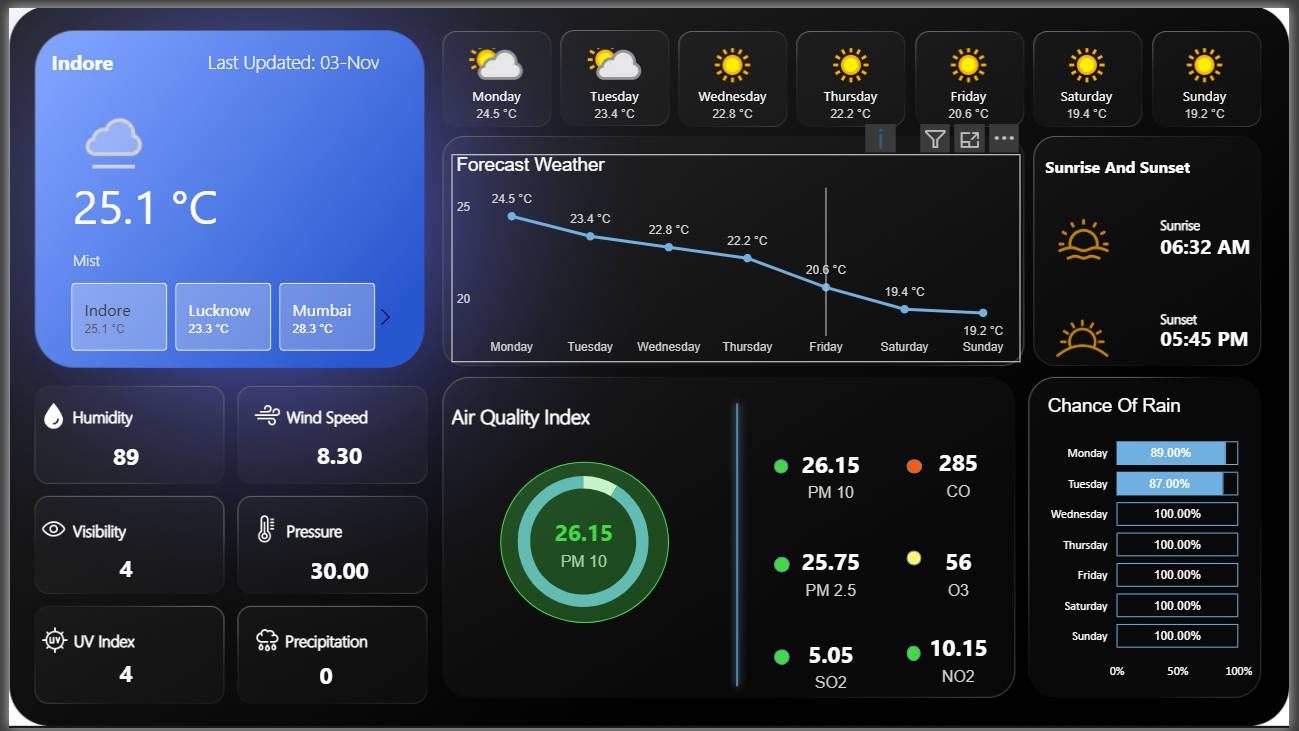

The page's visual inventory and layout, read from the dashboard file:
{"tool":"powerbi","page":{"name":"Page 1","canvas":[1280,720],"ordinal":0},"visuals":[{"type":"advancedSlicerVisual","fields":{"Values":["Location.location.name"]},"box":[37.4,270.2,354.7,78.4],"z":0},{"type":"shape","box":[63.9,158,150.8,78.4],"z":1000},{"type":"shape","box":[63.9,231.6,194.2,38.6],"z":2000},{"type":"shape","box":[42.2,33.8,119.4,38.6],"z":3000},{"type":"shape","box":[199.1,33.8,193,38.6],"z":4000},{"type":"cardVisual","fields":{"Data":["Min(Current.current.condition.icon)"]},"box":[37.4,72.4,124.3,115.8],"z":5000},{"type":"shape","box":[63.9,388.5,70,38.6],"z":6000},{"type":"shape","box":[63.9,501.9,70,38.6],"z":7000},{"type":"shape","box":[65.1,612.9,70,38.6],"z":8000},{"type":"shape","box":[277.5,388.8,98.8,38.8],"z":9000},{"type":"shape","box":[277.5,501.9,70,38.6],"z":10000},{"type":"shape","box":[276.3,612.9,98.9,38.6],"z":11000},{"type":"image","box":[26.5,388.5,37.4,38.6],"z":12000},{"type":"image","box":[26.5,501.9,37.4,37.4],"z":13000},{"type":"image","box":[240.1,388.5,37.4,37.4],"z":14000},{"type":"image","box":[27.7,614.1,37.4,37.4],"z":15000},{"type":"image","box":[238.9,503.1,37.4,37.4],"z":16000},{"type":"image","box":[240.1,614.1,37.4,37.4],"z":17000},{"type":"card","fields":{"Values":["Sum(Current.current.humidity)"]},"box":[95.3,427.1,44.6,44.6],"z":18000},{"type":"card","fields":{"Values":["Sum(Current.current.vis_km)"]},"box":[95.3,540.5,44.6,44.6],"z":19000},{"type":"card","fields":{"Values":["Sum(Current.current.uv)"]},"box":[95.3,645.4,44.6,44.6],"z":20000},{"type":"card","fields":{"Values":["Sum(Current.current.wind_kph)"]},"box":[295.6,425.9,71.2,44.6],"z":21000},{"type":"card","fields":{"Values":["Sum(Current.current.pressure_in)"]},"box":[295.6,541.7,71.2,44.6],"z":22000},{"type":"card","fields":{"Values":["Sum(Current.current.precip_in)"]},"box":[295.6,646.7,44.6,44.6],"z":23000},{"type":"advancedSlicerVisual","fields":{"Values":["Forecast_Day.Day Name"]},"box":[427.1,33.8,831.2,96.5],"z":24000},{"type":"lineChart","title":"Forecast Weather","fields":{"Category":["Forecast_Day.Day Name"],"Y":["Sum(Forecast_Day.forecast.forecastday.day.avgtemp_c)"]},"box":[442.8,146,568.2,208.7],"z":25000},{"type":"shape","box":[1036.3,138.7,155.6,38.6],"z":26000},{"type":"shape","box":[1150.9,217.2,107.4,38.6],"z":27000},{"type":"shape","box":[1150.9,310.1,107.4,38.6],"z":28000},{"type":"shape","box":[1150.9,197.9,70,38.6],"z":29000},{"type":"shape","box":[1150.9,290.8,70,38.6],"z":30000},{"type":"image","box":[1033.9,284.7,79.6,90.5],"z":31000},{"type":"image","box":[1035.1,201.5,78.4,60.3],"z":32000},{"type":"hundredPercentStackedBarChart","title":"Chance Of Rain","fields":{"Category":["Forecast_Day.Day Name"],"Y":["Sum(Forecast_Day.forecast.forecastday.day.daily_chance_of_rain)","_Measures.Left_value_rain"]},"box":[1033.9,387.3,214.7,293.2],"z":33000},{"type":"card","fields":{"Values":["Sum(Current.current.air_quality.co)"]},"box":[912.9,428.7,74.1,72.6],"z":33001},{"type":"card","fields":{"Values":["Sum(Current.current.air_quality.o3)"]},"box":[912.9,526.9,74.1,72.6],"z":33002},{"type":"card","fields":{"Values":["Sum(Current.current.air_quality.no2)"]},"box":[912.9,613.8,74.1,72.6],"z":33003},{"type":"card","fields":{"Values":["Sum(Current.current.air_quality.pm10)"]},"box":[780.4,430.1,84,72.6],"z":33004},{"type":"card","fields":{"Values":["Sum(Current.current.air_quality.pm2_5)"]},"box":[780.4,526.9,84,72.6],"z":33005},{"type":"card","fields":{"Values":["Sum(Current.current.air_quality.so2)"]},"box":[780.4,619.5,84,72.6],"z":33006},{"type":"shape","box":[764.8,451.4,14.2,14.2],"z":33007},{"type":"shape","box":[897.2,451.4,15.7,14.2],"z":33008},{"type":"shape","box":[897,542.6,15,15],"z":33009},{"type":"shape","box":[897.2,638,14.2,15.7],"z":33010},{"type":"shape","box":[764.8,548.3,15.7,15.7],"z":33011},{"type":"shape","box":[764.8,640.9,15.7,15.7],"z":33012},{"type":"shape","box":[716.2,387.5,23.8,298.8],"z":33013},{"type":"card","fields":{"Values":["Sum(Current.current.air_quality.pm10)"]},"box":[538.8,505,72.5,60],"z":33014},{"type":"donutChart","fields":{"Y":["Sum(Current.current.air_quality.pm10)","_Measures.Left value PM10"]},"box":[487.5,438.8,173.8,190],"z":33015},{"type":"shape","box":[491.2,453.8,168.8,161.2],"z":33016},{"type":"shape","box":[442.5,387.5,177.5,38.8],"z":33017}]}

Visuals, with their boxes in screenshot pixels (x1, y1, x2, y2), scaled from the page's 1280x720 canvas onto the 1299x731 screenshot:
advancedSlicerVisual - Location.location.name: region(38, 274, 398, 354)
shape: region(65, 160, 218, 240)
shape: region(65, 235, 262, 274)
shape: region(43, 34, 164, 74)
shape: region(202, 34, 398, 74)
cardVisual - Min(Current.current.condition.icon): region(38, 74, 164, 191)
shape: region(65, 394, 136, 434)
shape: region(65, 510, 136, 549)
shape: region(66, 622, 137, 661)
shape: region(282, 395, 382, 434)
shape: region(282, 510, 353, 549)
shape: region(280, 622, 381, 661)
image: region(27, 394, 65, 434)
image: region(27, 510, 65, 548)
image: region(244, 394, 282, 432)
image: region(28, 623, 66, 661)
image: region(242, 511, 280, 549)
image: region(244, 623, 282, 661)
card - Sum(Current.current.humidity): region(97, 434, 142, 479)
card - Sum(Current.current.vis_km): region(97, 549, 142, 594)
card - Sum(Current.current.uv): region(97, 655, 142, 701)
card - Sum(Current.current.wind_kph): region(300, 432, 372, 478)
card - Sum(Current.current.pressure_in): region(300, 550, 372, 595)
card - Sum(Current.current.precip_in): region(300, 657, 345, 702)
advancedSlicerVisual - Forecast_Day.Day Name: region(433, 34, 1277, 132)
"Forecast Weather" lineChart: region(449, 148, 1026, 360)
shape: region(1052, 141, 1210, 180)
shape: region(1168, 221, 1277, 260)
shape: region(1168, 315, 1277, 354)
shape: region(1168, 201, 1239, 240)
shape: region(1168, 295, 1239, 334)
image: region(1049, 289, 1130, 381)
image: region(1050, 205, 1130, 266)
"Chance Of Rain" hundredPercentStackedBarChart: region(1049, 393, 1267, 691)
card - Sum(Current.current.air_quality.co): region(926, 435, 1002, 509)
card - Sum(Current.current.air_quality.o3): region(926, 535, 1002, 609)
card - Sum(Current.current.air_quality.no2): region(926, 623, 1002, 697)
card - Sum(Current.current.air_quality.pm10): region(792, 437, 877, 510)
card - Sum(Current.current.air_quality.pm2_5): region(792, 535, 877, 609)
card - Sum(Current.current.air_quality.so2): region(792, 629, 877, 703)
shape: region(776, 458, 791, 473)
shape: region(911, 458, 926, 473)
shape: region(910, 551, 926, 566)
shape: region(911, 648, 925, 664)
shape: region(776, 557, 792, 573)
shape: region(776, 651, 792, 667)
shape: region(727, 393, 751, 697)
card - Sum(Current.current.air_quality.pm10): region(547, 513, 620, 574)
donutChart - Sum(Current.current.air_quality.pm10) x _Measures.Left value PM10: region(495, 446, 671, 638)
shape: region(498, 461, 670, 624)
shape: region(449, 393, 629, 433)
